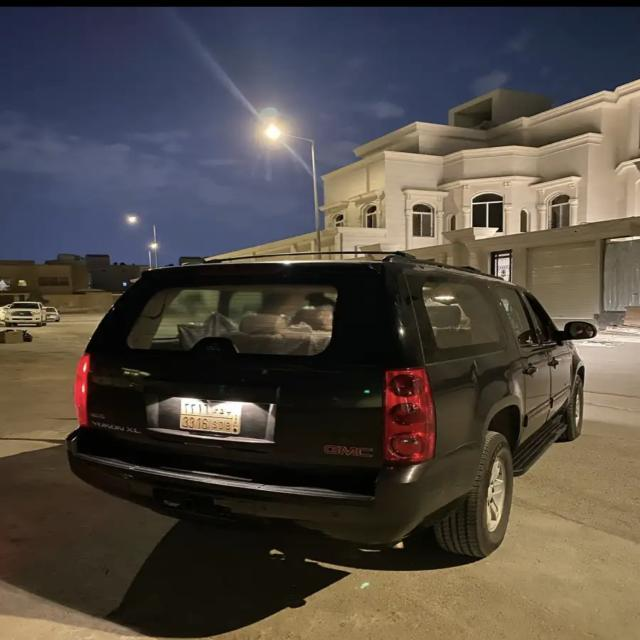license_plate: (180, 398, 243, 434)
